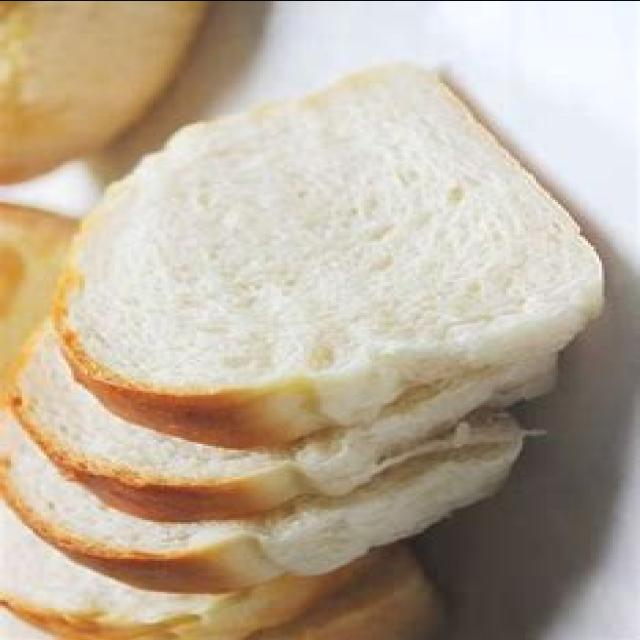roti tawar: (55, 59, 607, 453)
